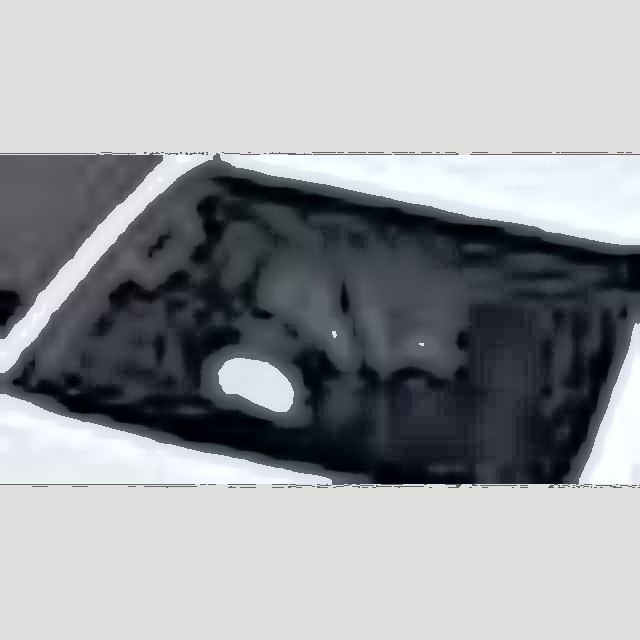pakai: (262, 242, 456, 368)
